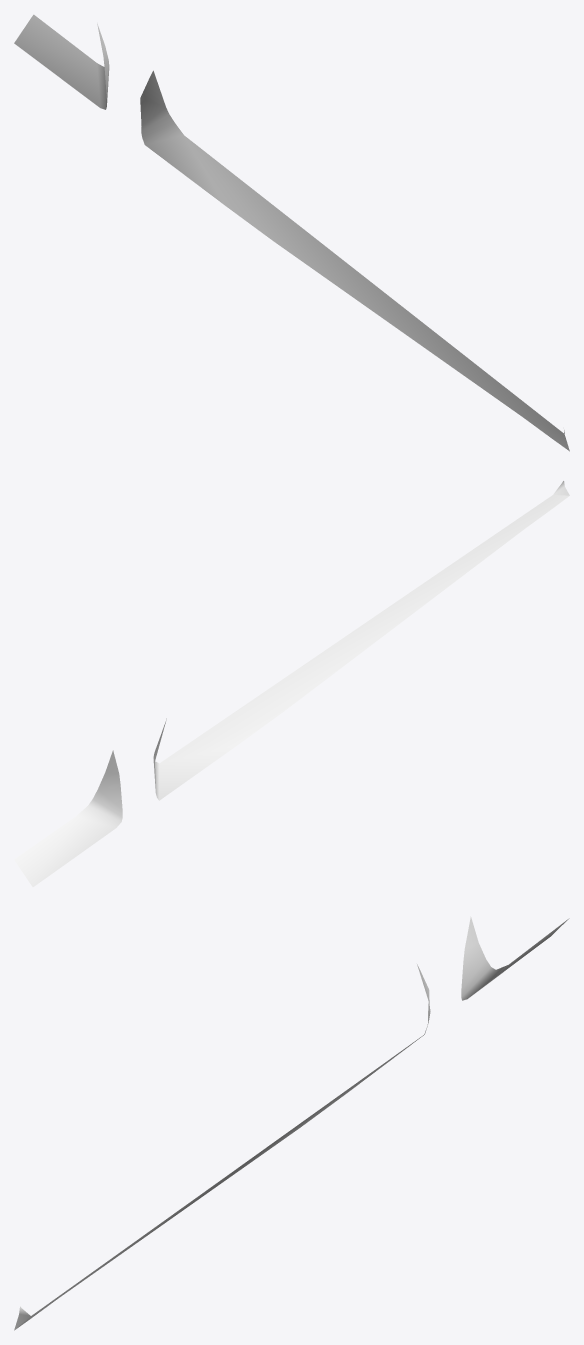
3 views of the same model, one above another, from view 1: azimuth 30°, elevation 25°; view 2: azimuth 150°, elevation 25°; view 3: azimuth 330°, elevation 25° (orthographic). The views are drawn at different scales.
Bounding box in the file's own units: 0.0191 × 0.0837 × 0.9389.
Materials: 1 (1 with a texture image).
